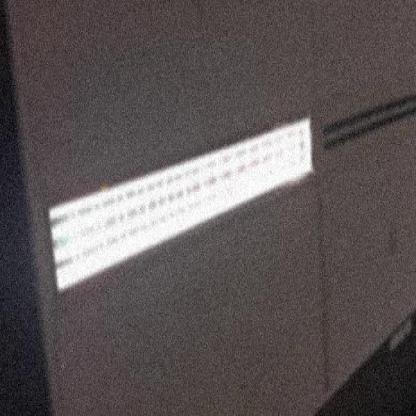light_on: (46, 101, 326, 310)
